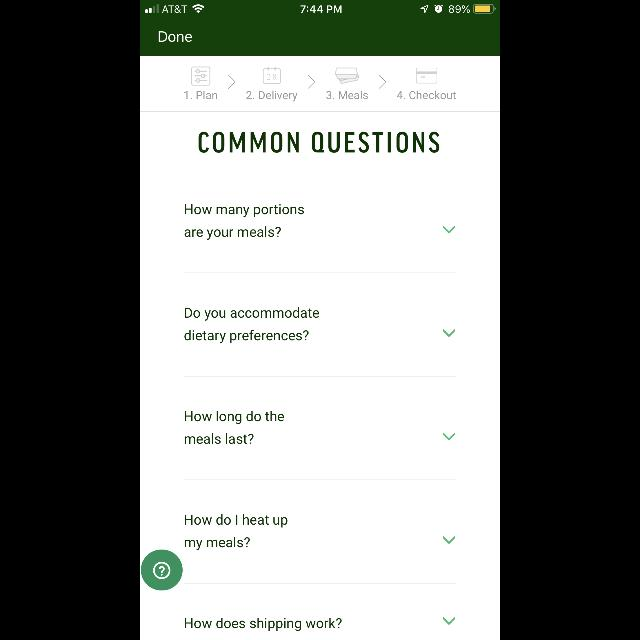icon: (141, 550, 183, 590), (192, 66, 210, 85), (417, 68, 438, 84), (263, 68, 281, 84), (228, 75, 236, 89), (308, 75, 316, 89), (379, 75, 386, 89), (443, 617, 455, 625), (443, 536, 455, 544), (443, 433, 455, 441), (443, 329, 455, 337), (443, 226, 455, 234)
image: (335, 68, 359, 84)
text: (184, 307, 320, 343), (198, 132, 440, 152), (184, 204, 304, 240), (185, 514, 288, 550), (185, 411, 285, 444), (185, 618, 342, 630), (246, 90, 298, 102), (396, 90, 456, 100), (326, 91, 368, 99), (185, 90, 218, 100), (160, 32, 192, 42)
uppertaskbar: (140, 0, 500, 14)
